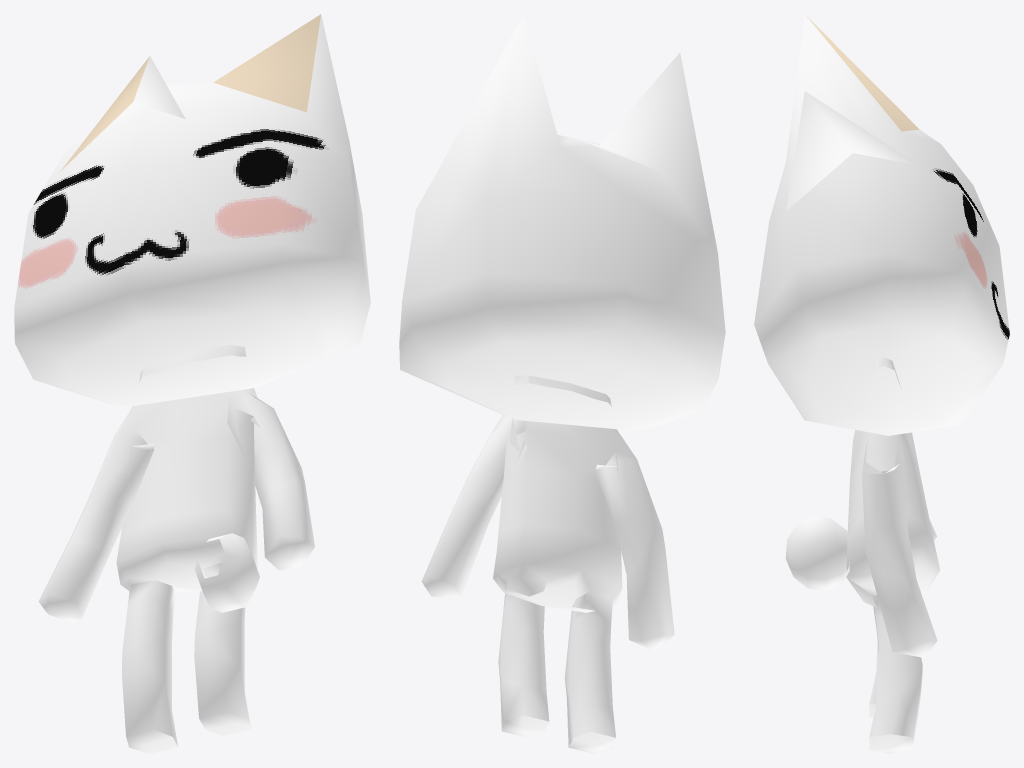
Rendered from ps2_save-icons_torotokyuujitsu.glb.
3 views of the same model, side by side, from view 1: azimuth 30°, elevation 25°; view 2: azimuth 150°, elevation 25°; view 3: azimuth 270°, elevation 25° (orthographic). The views are drawn at different scales.
Visible parts, largest first — view 1: toro_q.ico; view 2: toro_q.ico; view 3: toro_q.ico.
Boxes of the visible parts, bbox=[...] form: toro_q.ico: bbox=[14, 14, 370, 753]; toro_q.ico: bbox=[399, 14, 725, 753]; toro_q.ico: bbox=[754, 14, 1009, 753].
Size of the model in its own units: 2.06 by 4.19 by 1.43.
1 material, 1 textured.
